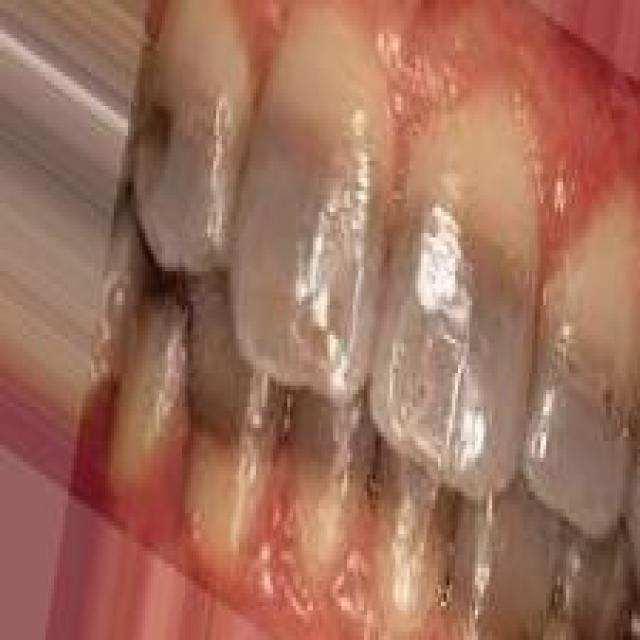caries: (134, 87, 179, 173)
